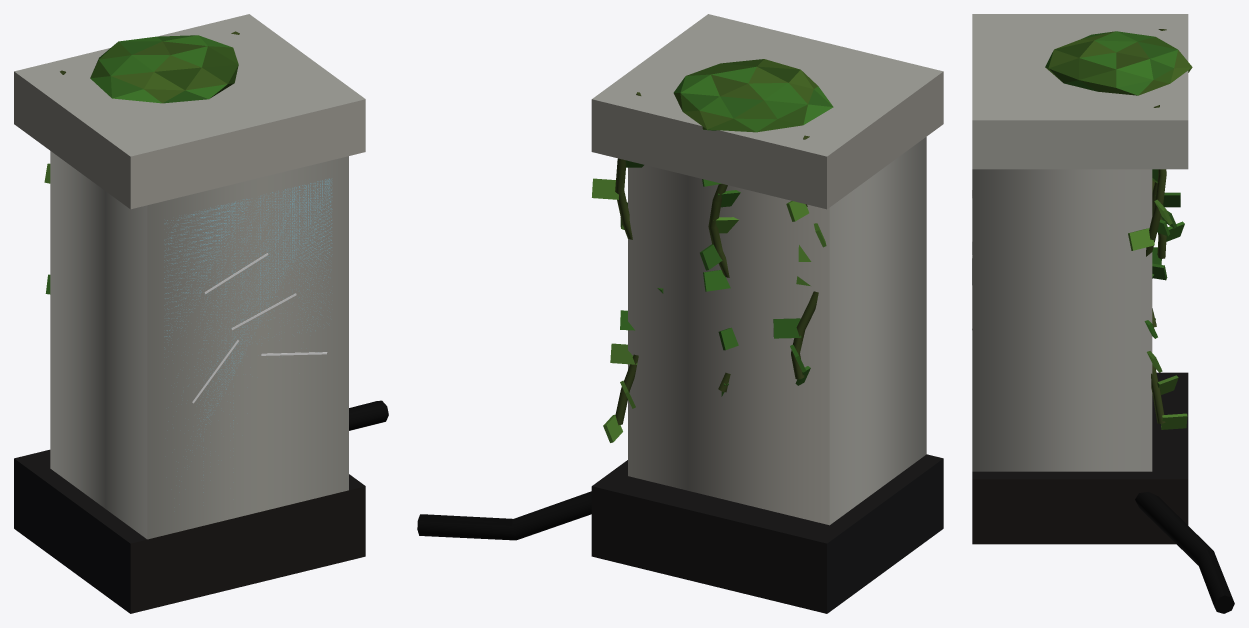
Rendered from cryo_pod.glb.
3 renders of one model, left to right at view 1: azimuth 30°, elevation 25°; view 2: azimuth 150°, elevation 25°; view 3: azimuth 270°, elevation 25°, orthographic. The views are drawn at different scales.
Parts seen in each view (by area): view 1: Mesh, Glass; view 2: Mesh; view 3: Mesh.
Boxes of the visible parts, x1,y1,x2,y2 form: Mesh: [14, 14, 388, 613]; Glass: [164, 178, 332, 492]; Mesh: [417, 14, 943, 613]; Mesh: [972, 14, 1234, 613].
Size of the model in its own units: 2.31 by 2.7 by 1.46.
